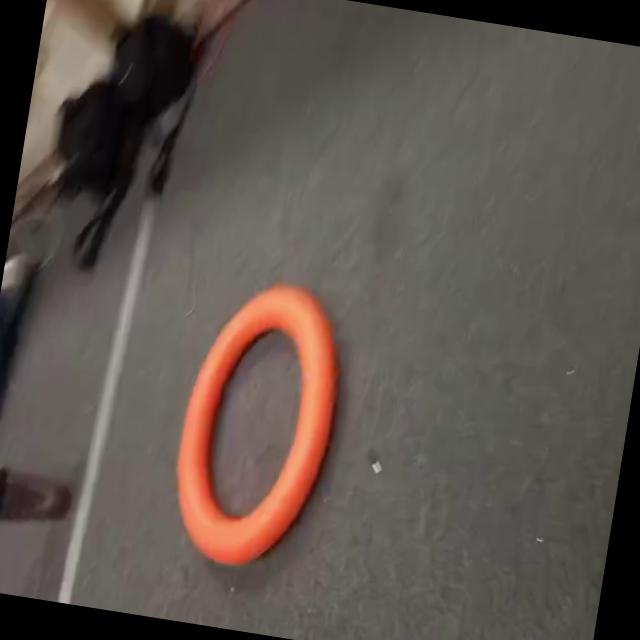note: (150, 263, 373, 602)
